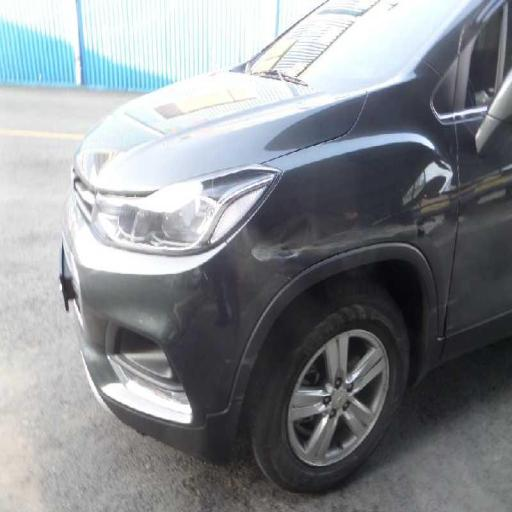dent: (134, 148, 454, 406)
